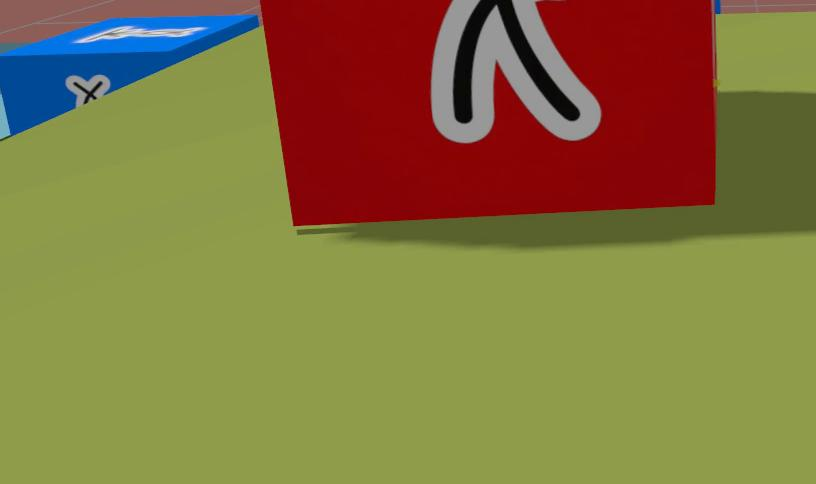KFS_FAKE: (262, 0, 723, 213), (432, 0, 593, 134)
KFS_REAL: (0, 14, 259, 132), (77, 24, 204, 44), (65, 72, 115, 107)
